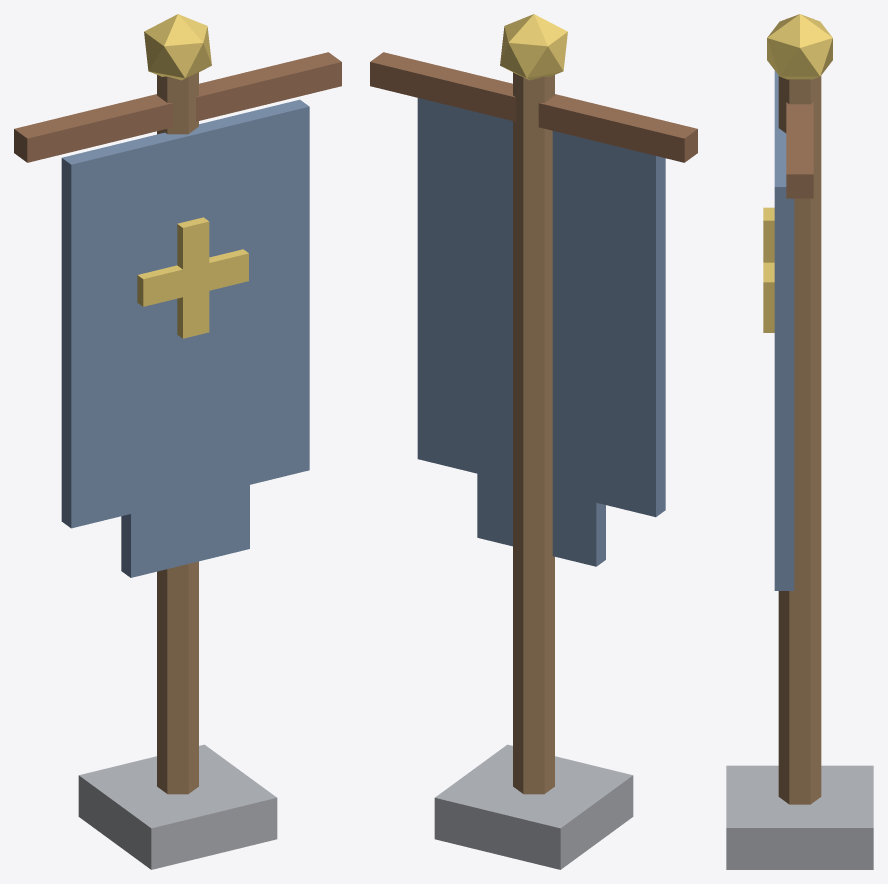
The model's file is banner.glb.
3 views of the same model, side by side, from view 1: azimuth 30°, elevation 25°; view 2: azimuth 150°, elevation 25°; view 3: azimuth 270°, elevation 25° (orthographic).
Visible parts, largest first — view 1: cloth, foot.001, pole, crossbar, cloth_tip, emblem_h, finial.001, emblem_v; view 2: cloth, pole, foot.001, crossbar, cloth_tip, finial.001; view 3: pole, foot.001, cloth, finial.001, crossbar, emblem_v, cloth_tip, emblem_h.
Part boxes in pixels (box(x1,y1,x2,y2)): cloth: box(61, 99, 309, 528); foot.001: box(78, 744, 277, 869); pole: box(157, 72, 198, 794); crossbar: box(14, 52, 341, 162); cloth_tip: box(121, 466, 249, 577); emblem_h: box(137, 249, 248, 306); finial.001: box(144, 14, 211, 80); emblem_v: box(177, 217, 209, 338); cloth: box(417, 98, 665, 517); pole: box(513, 72, 554, 794); foot.001: box(434, 744, 633, 869); crossbar: box(370, 52, 697, 162); cloth_tip: box(477, 461, 605, 566); finial.001: box(500, 14, 567, 80); pole: box(778, 76, 821, 804); foot.001: box(726, 765, 873, 869); cloth: box(774, 70, 794, 555); finial.001: box(767, 14, 832, 79); crossbar: box(786, 18, 813, 198); emblem_v: box(763, 207, 774, 332); cloth_tip: box(774, 555, 794, 590); emblem_h: box(763, 262, 774, 310).
Size of the model in its own units: 0.95 by 2.35 by 0.38.
